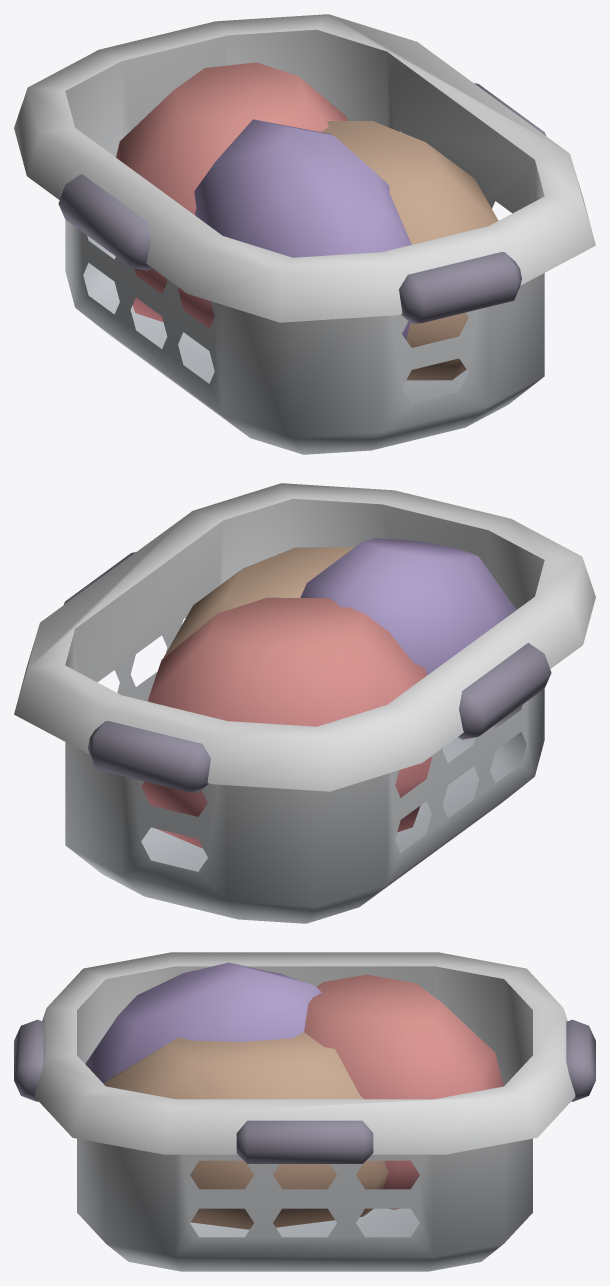
The model's file is hamper-laundry-basket-plastic-full.glb.
3 renders of one model, top to bottom at view 1: azimuth 30°, elevation 25°; view 2: azimuth 150°, elevation 25°; view 3: azimuth 270°, elevation 25°, orthographic. The views are drawn at different scales.
Visible parts, largest first — view 1: hamper-laundry-basket-plastic-full; view 2: hamper-laundry-basket-plastic-full; view 3: hamper-laundry-basket-plastic-full.
Part boxes in pixels (x1=…): hamper-laundry-basket-plastic-full: x1=14, y1=14, x2=595, y2=454; hamper-laundry-basket-plastic-full: x1=14, y1=483, x2=595, y2=923; hamper-laundry-basket-plastic-full: x1=14, y1=952, x2=595, y2=1271.
Size of the model in its own units: 0.4067 by 0.2391 by 0.5491.
